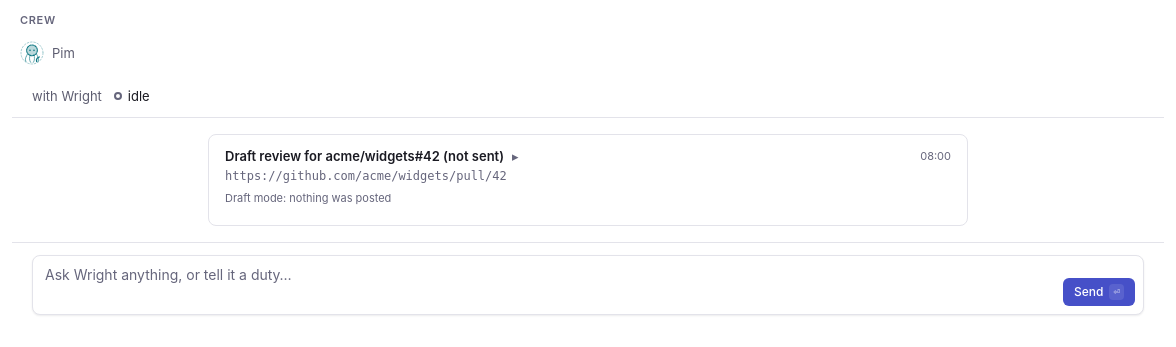
draft card › a detail answer with no draft says so, as text
Check: the text "Draft review for acme/widgets#42 (not sent)" is shown, box [225, 147, 504, 165]
Click the button "Draft review for acme/widgets#42 (not sent)" at x=372, y=156, box [225, 147, 519, 165]
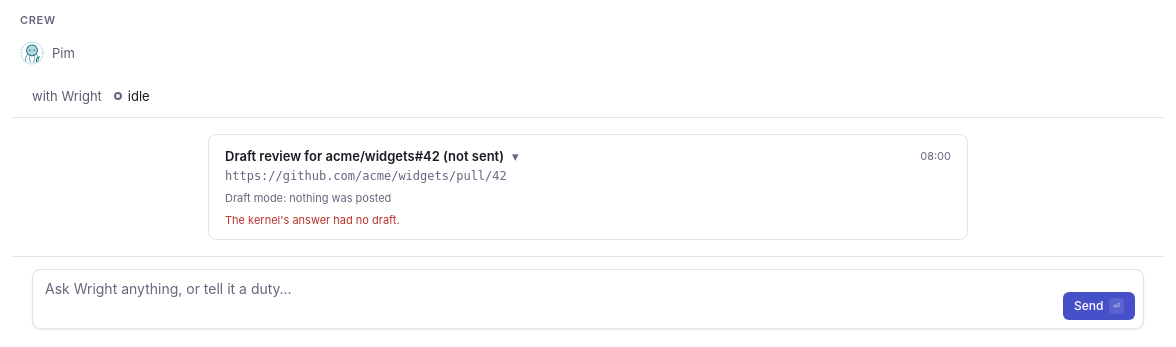
Check: the message reads "The kernel's answer had no draft.", box [225, 213, 400, 227]
